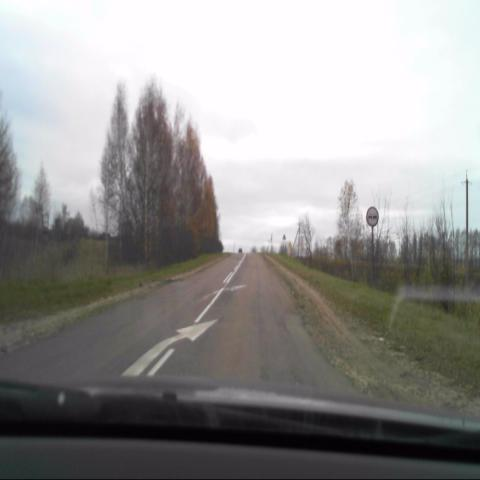3_20: (365, 205, 378, 227)
